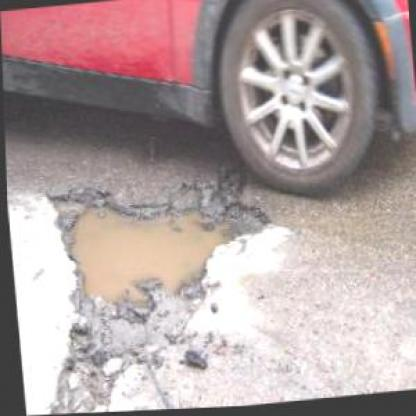pothole: (42, 166, 276, 316)
